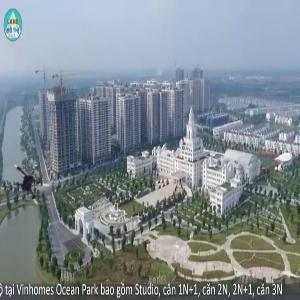drone: (8, 158, 59, 209)
